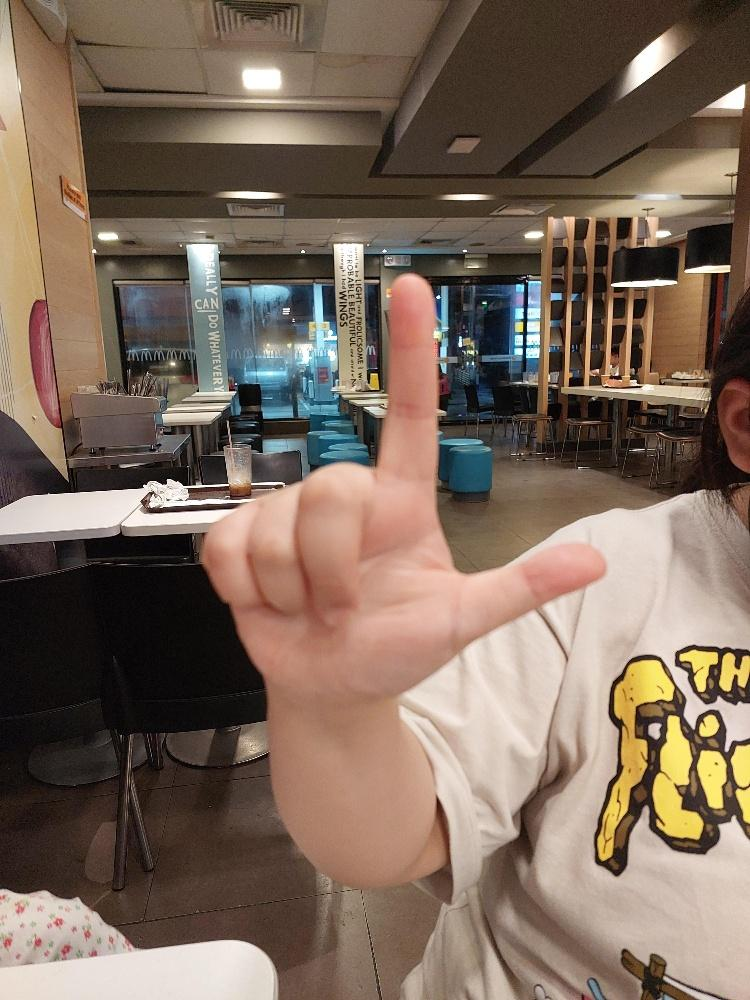l: (199, 271, 608, 710)
